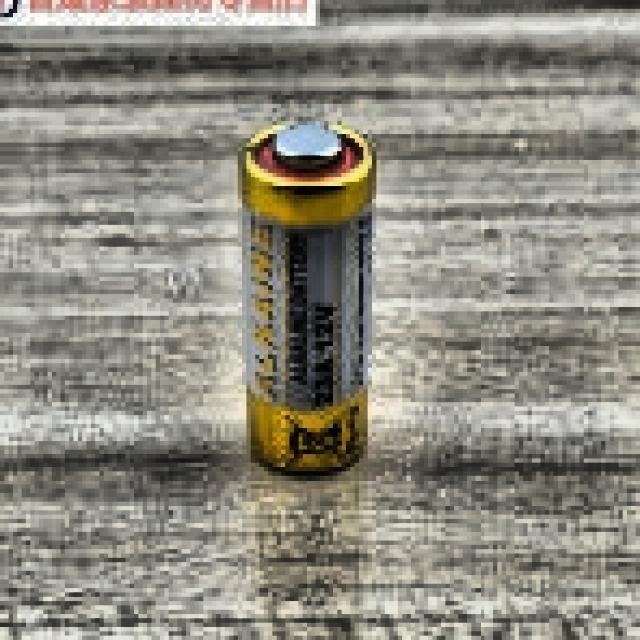Non-Valuable Waste - Batteries: (239, 123, 376, 472)
